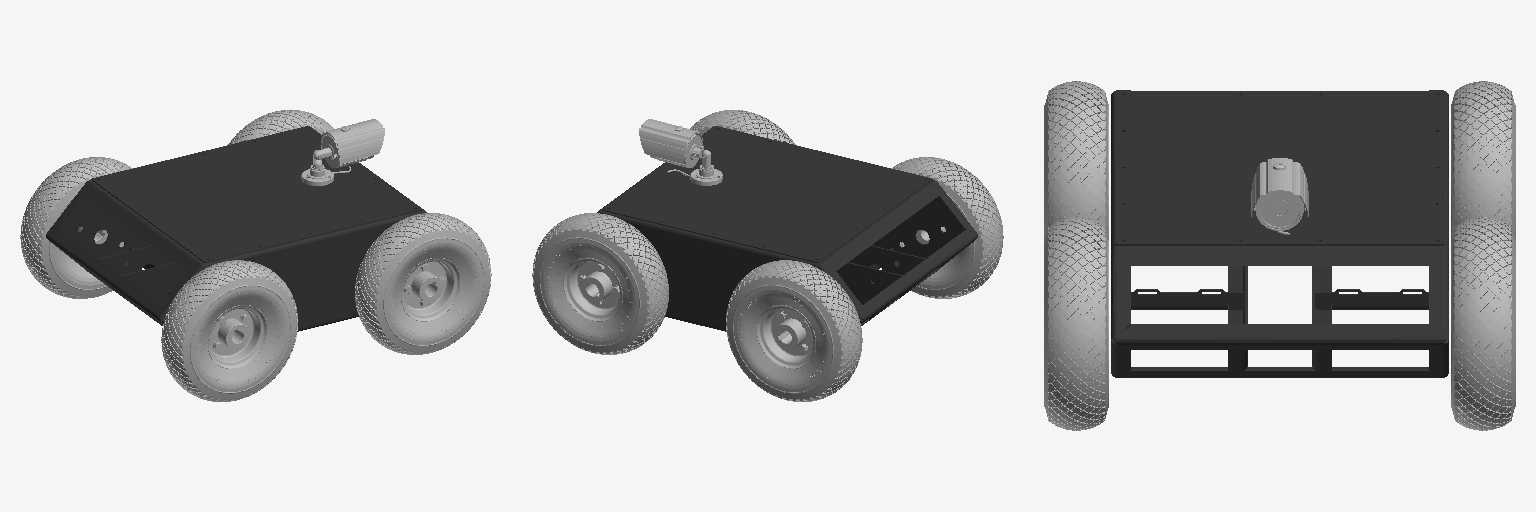
robot.urdf — agvrobot:
<?xml version="1.0" encoding="utf-8"?>

<robot
  name="agvrobot">
  <link
    name="base_link">
    <inertial>
      <origin
        xyz="-0.002152440678795 1.13126032255986E-05 0.00604402046835019"
        rpy="0 0 0" />
      <mass
        value="14.8703977020626" />
      <inertia
        ixx="0.0939644121463141"
        ixy="-4.10766710536477E-16"
        ixz="1.95792801349826E-05"
        iyy="0.317296328959658"
        iyz="3.28268614486558E-16"
        izz="0.365654791508982" />
    </inertial>
    <visual>
      <origin
        xyz="0 0 0"
        rpy="0 0 0" />
      <geometry>
        <mesh
          filename="package://mobile_robot/stk_link/base_link.STL" />
      </geometry>
      <material
        name="">
        <color
          rgba="0.250980392156863 0.250980392156863 0.250980392156863 1" />
      </material>
    </visual>
    <collision>
      <origin
        xyz="0 0 0"
        rpy="0 0 0" />
      <geometry>
        <mesh
          filename="package://mobile_robot/stk_link/base_link.STL" />
      </geometry>
    </collision>
  </link>
  <link
    name="camera_link">
    <inertial>
      <origin
        xyz="0.0490514635947559 -0.00958883627808618 0.0499639518989416"
        rpy="0 0 0" />
      <mass
        value="0.262394686455578" />
      <inertia
        ixx="0.000121479144853231"
        ixy="-4.51424543104141E-08"
        ixz="-4.82175100758753E-06"
        iyy="0.000149994763124515"
        iyz="-1.69394086425534E-06"
        izz="0.000156546982374656" />
    </inertial>
    <visual>
      <origin
        xyz="0 0 0"
        rpy="0 0 0" />
      <geometry>
        <mesh
          filename="package://mobile_robot/stk_link/camera_link.STL" />
      </geometry>
      <material
        name="">
        <color
          rgba="0.752941176470588 0.752941176470588 0.752941176470588 1" />
      </material>
    </visual>
    <collision>
      <origin
        xyz="0 0 0"
        rpy="0 0 0" />
      <geometry>
        <mesh
          filename="package://mobile_robot/stk_link/camera_link.STL" />
      </geometry>
    </collision>
  </link>
  <joint
    name="camera_joint"
    type="fixed">
    <origin
      xyz="0.1273 -0.00047013 0.092"
      rpy="-0.2101 0.089397 -0.019036" />
    <parent
      link="base_link" />
    <child
      link="camera_link" />
    <axis
      xyz="0 0 0" />
    <limit
      lower="0"
      upper="0"
      effort="0"
      velocity="0" />
  </joint>
  <link
    name="lidar_link">
    <inertial>
      <origin
        xyz="0.0116904097022661 -0.000369278649031422 0.0271302951803548"
        rpy="0 0 0" />
      <mass
        value="0.0941041816987777" />
      <inertia
        ixx="2.79099143492373E-05"
        ixy="-1.208440822453E-07"
        ixz="-3.35438776614448E-07"
        iyy="4.43519734621322E-05"
        iyz="2.348031607421E-08"
        izz="6.94753835429932E-05" />
    </inertial>
    <visual>
      <origin
        xyz="0 0 0"
        rpy="0 0 0" />
      <geometry>
        <mesh
          filename="package://mobile_robot/stk_link/lidar_link.STL" />
      </geometry>
      <material
        name="">
        <color
          rgba="0.752941176470588 0.752941176470588 0.752941176470588 1" />
      </material>
    </visual>
    <collision>
      <origin
        xyz="0 0 0"
        rpy="0 0 0" />
      <geometry>
        <mesh
          filename="package://mobile_robot/stk_link/lidar_link.STL" />
      </geometry>
    </collision>
  </link>
  <joint
    name="lidar_joint"
    type="fixed">
    <origin
      xyz="-0.17611 0.00087065 0.092"
      rpy="0 0 0" />
    <parent
      link="base_link" />
    <child
      link="lidar_link" />
    <axis
      xyz="1 0 0" />
    <limit
      lower="0"
      upper="0"
      effort="0"
      velocity="0" />
  </joint>
  <link
    name="banh1_link">
    <inertial>
      <origin
        xyz="-1.51471928285796E-05 -9.38964803047226E-05 -4.15707450148566E-05"
        rpy="0 0 0" />
      <mass
        value="4.1716262996994" />
      <inertia
        ixx="0.0178679480746258"
        ixy="5.00366374278824E-09"
        ixz="6.98886010936195E-07"
        iyy="0.0326440112060576"
        iyz="-9.61552164741037E-11"
        izz="0.0178693243295027" />
    </inertial>
    <visual>
      <origin
        xyz="0 0 0"
        rpy="0 0 0" />
      <geometry>
        <mesh
          filename="package://mobile_robot/stk_link/banh1_link.STL" />
      </geometry>
      <material
        name="">
        <color
          rgba="0.752941176470588 0.752941176470588 0.752941176470588 1" />
      </material>
    </visual>
    <collision>
      <origin
        xyz="0 0 0"
        rpy="0 0 0" />
      <geometry>
        <mesh
          filename="package://mobile_robot/stk_link/banh1_link.STL" />
      </geometry>
    </collision>
  </link>
  <joint
    name="banh1_joint"
    type="continuous">
    <origin
      xyz="0.2 -0.2525 -0.03"
      rpy="0 0 0" />
    <parent
      link="base_link" />
    <child
      link="banh1_link" />
    <axis
      xyz="0 1 0" />
    <limit
      effort="10"
      velocity="10" />
    <dynamics
      damping="0.1"
      friction="0.1" />
  </joint>
  <link
    name="banh2_link">
    <inertial>
      <origin
        xyz="4.05849221342958E-05 9.38965040256368E-05 1.76189857834345E-05"
        rpy="0 0 0" />
      <mass
        value="4.1716263031854" />
      <inertia
        ixx="0.0178692354925292"
        ixy="-3.97156964756491E-10"
        ixz="7.7641962419772E-07"
        iyy="0.0326440112208869"
        iyz="4.98857665637852E-09"
        izz="0.0178680369324417" />
    </inertial>
    <visual>
      <origin
        xyz="0 0 0"
        rpy="0 0 0" />
      <geometry>
        <mesh
          filename="package://mobile_robot/stk_link/banh2_link.STL" />
      </geometry>
      <material
        name="">
        <color
          rgba="0.752941176470588 0.752941176470588 0.752941176470588 1" />
      </material>
    </visual>
    <collision>
      <origin
        xyz="0 0 0"
        rpy="0 0 0" />
      <geometry>
        <mesh
          filename="package://mobile_robot/stk_link/banh2_link.STL" />
      </geometry>
    </collision>
  </link>
  <joint
    name="banh2_joint"
    type="continuous">
    <origin
      xyz="0.2 0.2525 -0.03"
      rpy="0 0 0" />
    <parent
      link="base_link" />
    <child
      link="banh2_link" />
    <axis
      xyz="0 1 0" />
    <limit
      effort="10"
      velocity="10" />
    <dynamics
      damping="0.1"
      friction="0.1" />
  </joint>
  <link
    name="banh3_link">
    <inertial>
      <origin
        xyz="-4.16516982478798E-05 9.38964959634192E-05 1.49231607441784E-05"
        rpy="0 0 0" />
      <mass
        value="4.17162630199052" />
      <inertia
        ixx="0.0178694491338168"
        ixy="-3.12354106581905E-09"
        ixz="-5.487400006847E-07"
        iyy="0.0326440112159965"
        iyz="-3.90886525304928E-09"
        izz="0.017867823284253" />
    </inertial>
    <visual>
      <origin
        xyz="0 0 0"
        rpy="0 0 0" />
      <geometry>
        <mesh
          filename="package://mobile_robot/stk_link/banh3_link.STL" />
      </geometry>
      <material
        name="">
        <color
          rgba="0.752941176470588 0.752941176470588 0.752941176470588 1" />
      </material>
    </visual>
    <collision>
      <origin
        xyz="0 0 0"
        rpy="0 0 0" />
      <geometry>
        <mesh
          filename="package://mobile_robot/stk_link/banh3_link.STL" />
      </geometry>
    </collision>
  </link>
  <joint
    name="banh3_joint"
    type="continuous">
    <origin
      xyz="-0.2 0.2525 -0.03"
      rpy="0 0 0" />
    <parent
      link="base_link" />
    <child
      link="banh3_link" />
    <axis
      xyz="0 1 0" />
    <limit
      effort="10"
      velocity="10" />
    <dynamics
      damping="0.1"
      friction="0.1" />
  </joint>
  <link
    name="banh4_link">
    <inertial>
      <origin
        xyz="1.20943559993314E-05 -9.38966171759037E-05 -4.25594916955187E-05"
        rpy="0 0 0" />
      <mass
        value="4.1716263199783" />
      <inertia
        ixx="0.0178677572069347"
        ixy="4.11908794425219E-09"
        ixz="-4.34921764944389E-07"
        iyy="0.0326440112926224"
        iyz="2.82898806558011E-09"
        izz="0.0178695153178982" />
    </inertial>
    <visual>
      <origin
        xyz="0 0 0"
        rpy="0 0 0" />
      <geometry>
        <mesh
          filename="package://mobile_robot/stk_link/banh4_link.STL" />
      </geometry>
      <material
        name="">
        <color
          rgba="0.752941176470588 0.752941176470588 0.752941176470588 1" />
      </material>
    </visual>
    <collision>
      <origin
        xyz="0 0 0"
        rpy="0 0 0" />
      <geometry>
        <mesh
          filename="package://mobile_robot/stk_link/banh4_link.STL" />
      </geometry>
    </collision>
  </link>
  <joint
    name="banh4_joint"
    type="continuous">
    <origin
      xyz="-0.2 -0.2525 -0.03"
      rpy="0 0 0" />
    <parent
      link="base_link" />
    <child
      link="banh4_link" />
    <axis
      xyz="0 1 0" />
    <limit
      effort="10"
      velocity="10" />
    <dynamics
      damping="0.1"
      friction="0.1" />
  </joint>
  <gazebo>
    <plugin name="diff_drive" filename="libgazebo_ros_diff_drive.so">
        <!-- Joint Names -->
        <leftJoint>banh2_joint</leftJoint>
        <leftJoint>banh3_joint</leftJoint>
        <rightJoint>banh1_joint</rightJoint>
        <rightJoint>banh4_joint</rightJoint>

        <!-- Wheel Properties -->
        <wheelSeparation>0.505</wheelSeparation>
        <wheelDiameter>0.264</wheelDiameter>

        <!-- Control Topic -->

        <commandTopic>/cmd_vel</commandTopic>

        <!-- Odometry and Frames -->
        <odometryTopic>/odom</odometryTopic>
        <odometryFrame>odom</odometryFrame>
        <odometrySource>world</odometrySource>
        <robotBaseFrame>base_link</robotBaseFrame>

        <!-- Publish Options -->
        <publishOdomTF>true</publishOdomTF>
        <publishWheelTF>true</publishWheelTF>
        <publishTf>true</publishTf>
        <publishWheelJointState>true</publishWheelJointState>
        <!-- Wheel Dynamics -->
        <wheelAcceleration>10.0</wheelAcceleration>
        <wheelTorque>10.0</wheelTorque>
        <updateRate>100</updateRate>

        <rosDebugLevel>debug</rosDebugLevel>
    </plugin>
 </gazebo>
  
  <gazebo reference="camera_link">
   <sensor name="camera_sensor" type="camera">
     <pose>0 0 0 0 0 0</pose>
     <visualize>true</visualize>
     <update_rate>30</update_rate>
     <camera>
       <horizontal_fov>1.047</horizontal_fov> <!-- 60 độ -->
       <image>
         <width>640</width>
         <height>480</height>
         <format>R8G8B8</format>
       </image>
       <clip>
         <near>0.1</near>
         <far>100</far>
       </clip>
     </camera>
     <plugin name="camera_plugin" filename="libgazebo_ros_camera.so">
       <ros>
         <namespace>/camera</namespace>
         <remapping>image_raw:=image_raw</remapping>
         <remapping>camera_info:=camera_info</remapping>
       </ros>
       <camera_name>camera</camera_name>
       <frame_name>camera_link</frame_name>
       <hack_baseline>0.0</hack_baseline>
     </plugin>
   </sensor>
 </gazebo>
   <gazebo reference="lidar_link">
   <sensor name="lidar_sensor" type="ray">
     <pose>0 0 0 0 0 0</pose>
     <visualize>true</visualize>
     <update_rate>10</update_rate>
     <ray>
       <scan>
         <horizontal>
           <samples>360</samples>
           <resolution>1</resolution>
           <min_angle>-3.14159</min_angle>
           <max_angle>3.14159</max_angle>
         </horizontal>
         <vertical>
           <samples>10</samples>
           <resolution>1</resolution>
           <min_angle>-0.261799</min_angle>
           <max_angle>0.261799</max_angle>
         </vertical>
       </scan>
       <range>
         <min>0.1</min>
         <max>10.0</max>
         <resolution>0.01</resolution>
       </range>
     </ray>
     <plugin name="velodyne_plugin" filename="libgazebo_ros_velodyne.so">
       <topicName>/velodyne_points</topicName>
       <frameName>lidar_link</frameName>
     </plugin>
   </sensor>
 </gazebo>
</robot>

--- What the picture shows (computed from the rendered views, not written in the file) ---
Views: 3 orthographic renders of the robot side by side, from view 1: azimuth 30°, elevation 25°; view 2: azimuth 150°, elevation 25°; view 3: azimuth 270°, elevation 25°.
Robot: agvrobot — 7 links, 6 joints (4 continuous, 2 fixed); root link base_link; default pose: every joint at zero.
Visible links, largest first — view 1: base_link, banh1_link, banh4_link, banh3_link, camera_link, banh2_link; view 2: base_link, banh3_link, banh2_link, banh4_link, camera_link, banh1_link; view 3: base_link, banh1_link, banh2_link, banh3_link, banh4_link, camera_link.
Link boxes in pixels (bbox=[...]): base_link: bbox=[46, 126, 426, 331]; banh1_link: bbox=[355, 213, 491, 354]; banh4_link: bbox=[161, 260, 297, 401]; banh3_link: bbox=[20, 157, 132, 298]; camera_link: bbox=[301, 119, 384, 185]; banh2_link: bbox=[228, 110, 333, 144]; base_link: bbox=[597, 126, 977, 331]; banh3_link: bbox=[726, 260, 862, 401]; banh2_link: bbox=[532, 213, 668, 354]; banh4_link: bbox=[891, 157, 1003, 298]; camera_link: bbox=[639, 119, 722, 185]; banh1_link: bbox=[690, 110, 795, 144]; base_link: bbox=[1111, 90, 1448, 377]; banh1_link: bbox=[1044, 217, 1108, 430]; banh2_link: bbox=[1451, 217, 1515, 430]; banh3_link: bbox=[1451, 81, 1515, 240]; banh4_link: bbox=[1044, 81, 1108, 240]; camera_link: bbox=[1251, 158, 1308, 234].
Size in the robot's own frame: 0.6649 by 0.585 by 0.344 metres.
Meshes: 7 distinct files referenced, 6 mesh visuals loaded (6 binary STL); not drawn: 1 (reference not matched to a file when rendering).